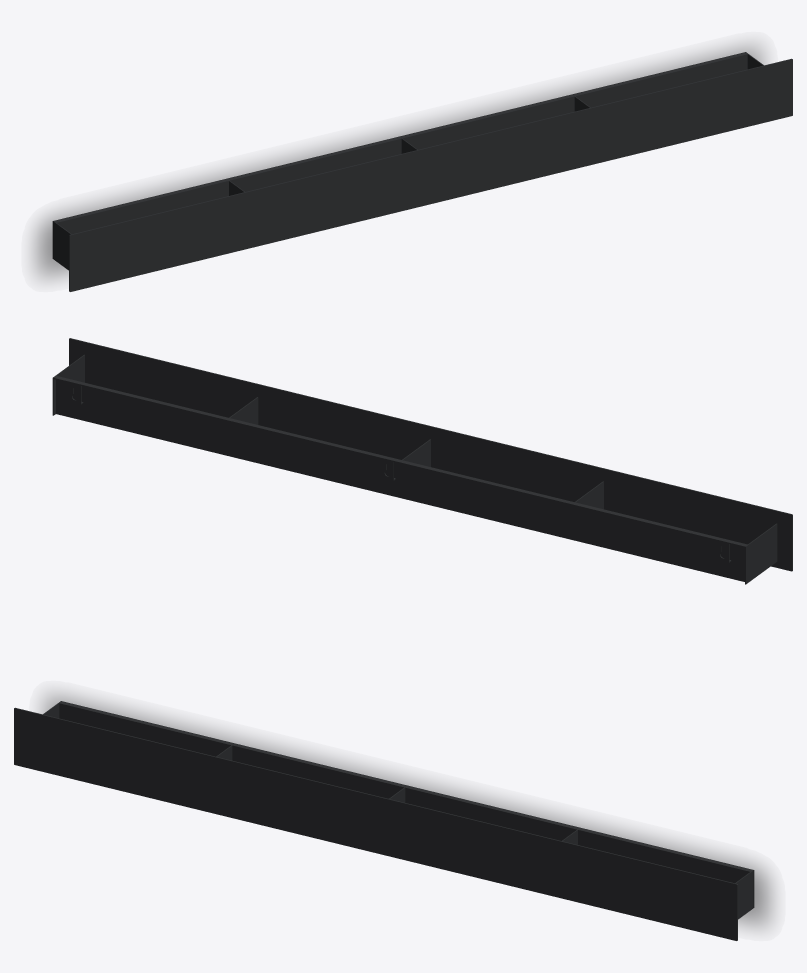
Rendered from skyline-mono.23050162ef.ar.glb.
3 renders of one model, top to bottom at view 1: azimuth 30°, elevation 25°; view 2: azimuth 150°, elevation 25°; view 3: azimuth 330°, elevation 25°, orthographic.
Visible parts, largest first — view 1: NAUO1, object 2; view 2: NAUO1; view 3: NAUO1, object 2.
Boxes of the visible parts, bbox=[...] form: NAUO1: bbox=[52, 52, 792, 291]; object 2: bbox=[33, 45, 765, 278]; NAUO1: bbox=[52, 338, 792, 584]; NAUO1: bbox=[14, 701, 754, 940]; object 2: bbox=[41, 694, 773, 927].
Size of the model in its own units: 1.28 by 0.17 by 0.092.
Materials: 2 (1 with a texture image).
